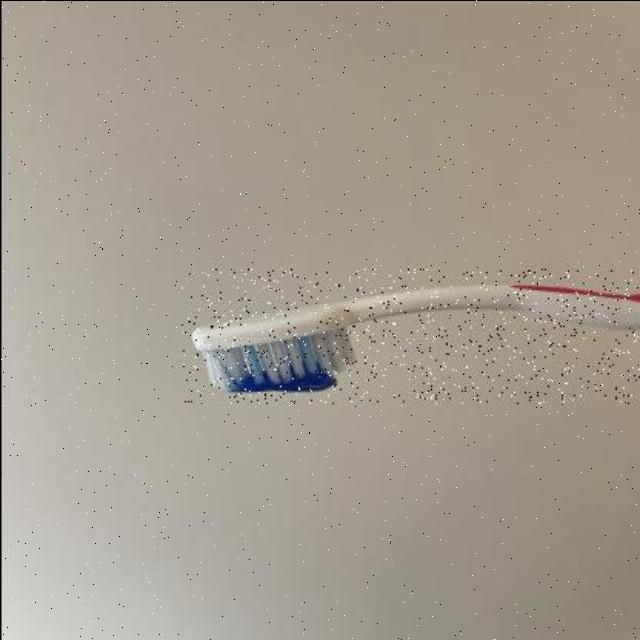toothbrush: (180, 268, 640, 404)
